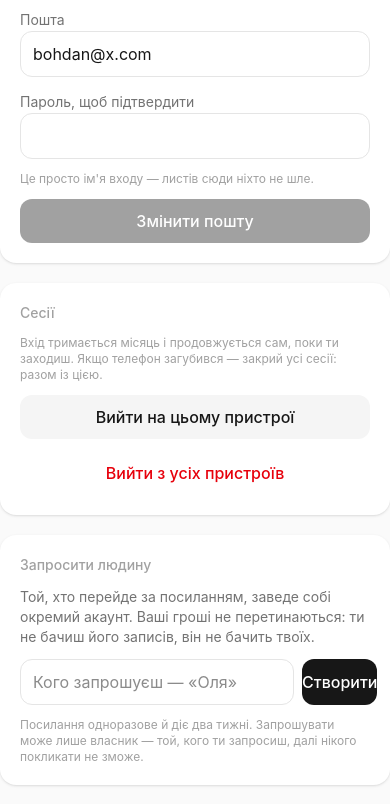
Test: Invites › shows the full link once, after making it
The image size is (390, 804).
(page scrolled)
Expected: the text "SECRET-CODE" is not shown
Click the button "Створити": click(340, 682) [302,659,377,705]
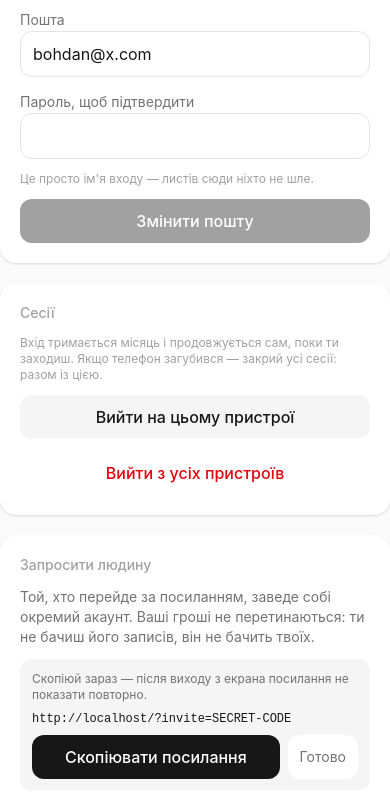
Result: the text "http://localhost/?invite=SECRET-CODE" is shown at [32,712,291,726]
Result: the text "після виходу з екрана посилання не показати повторно" is shown at [32,671,349,702]
